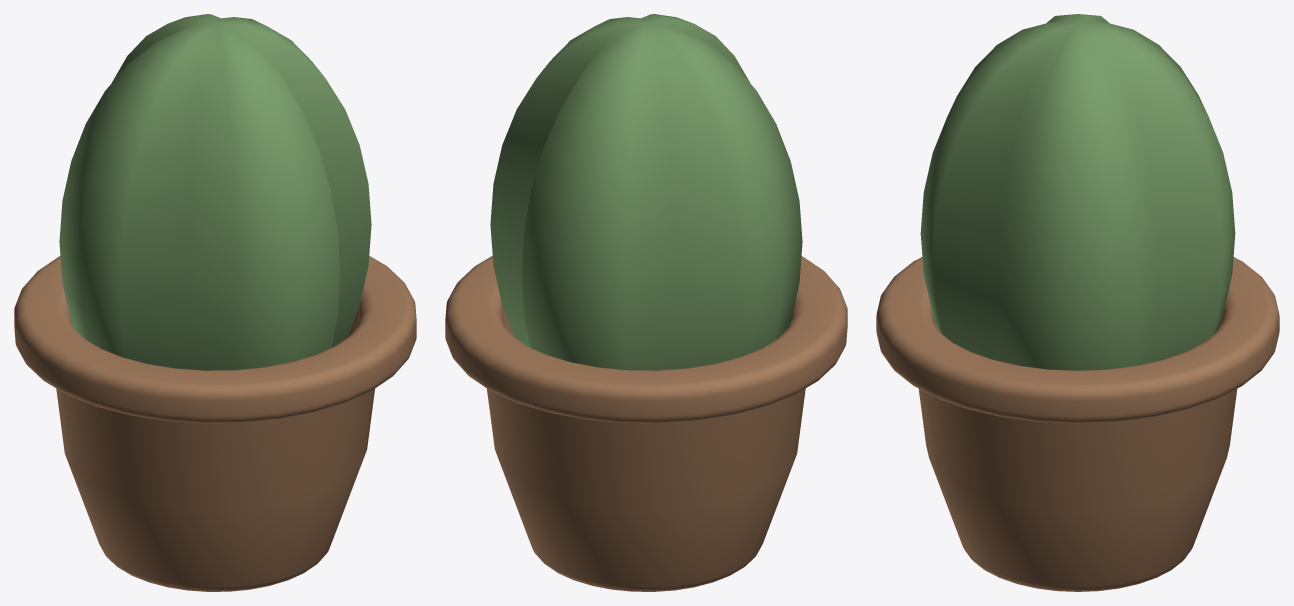
The model's file is cactus.glb.
3 renders of one model, left to right at view 1: azimuth 30°, elevation 25°; view 2: azimuth 150°, elevation 25°; view 3: azimuth 270°, elevation 25°, orthographic.
Visible parts, largest first — view 1: cactus; view 2: cactus; view 3: cactus.
Boxes of the visible parts, bbox=[...] form: cactus: bbox=[14, 14, 416, 591]; cactus: bbox=[445, 14, 847, 591]; cactus: bbox=[876, 14, 1279, 591].
Size of the model in its own units: 0.2509 by 0.3602 by 0.2509.
